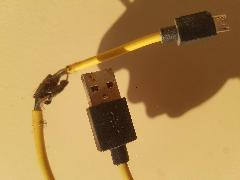electronic: (4, 52, 164, 132)
